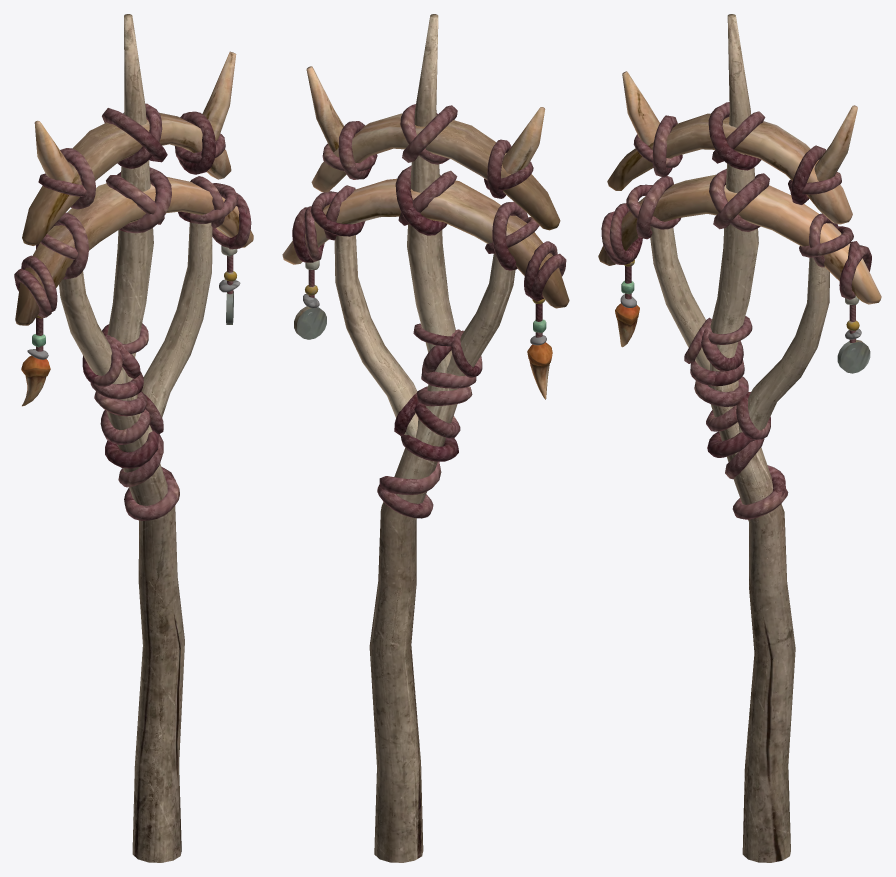
3 views of the same model, side by side, from view 1: azimuth 30°, elevation 25°; view 2: azimuth 150°, elevation 25°; view 3: azimuth 330°, elevation 25° (orthographic).
Visible parts, largest first — view 1: SM_Dec_Garou_Set_SM_Trophy_02_LOD0; view 2: SM_Dec_Garou_Set_SM_Trophy_02_LOD0; view 3: SM_Dec_Garou_Set_SM_Trophy_02_LOD0.
Boxes of the visible parts, x1,y1,x2,y2 form: SM_Dec_Garou_Set_SM_Trophy_02_LOD0: (14, 14, 253, 862); SM_Dec_Garou_Set_SM_Trophy_02_LOD0: (282, 14, 569, 862); SM_Dec_Garou_Set_SM_Trophy_02_LOD0: (598, 14, 881, 862).
Bounding box in the file's own units: 0.7338 × 2.26 × 0.2412.
1 material, 1 textured.
